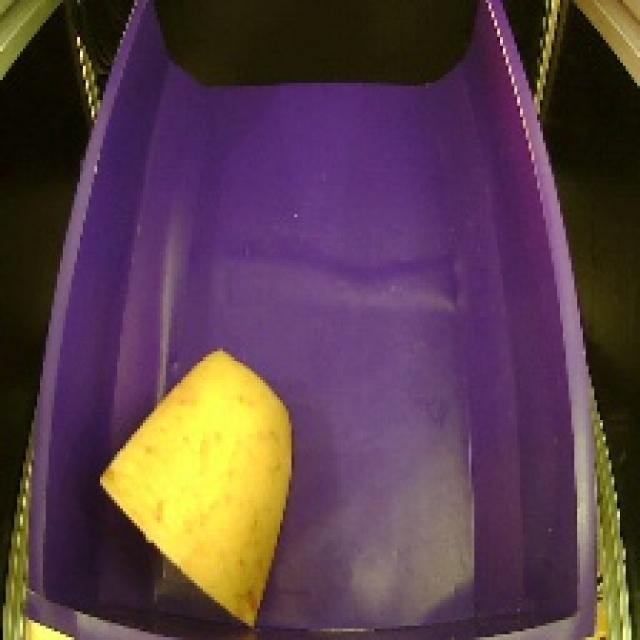potato: (86, 338, 313, 634)
